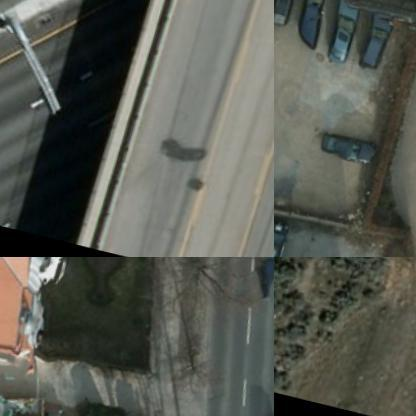car: (357, 12, 397, 70), (321, 2, 357, 64), (274, 218, 291, 256)
pickup: (316, 130, 378, 166)
